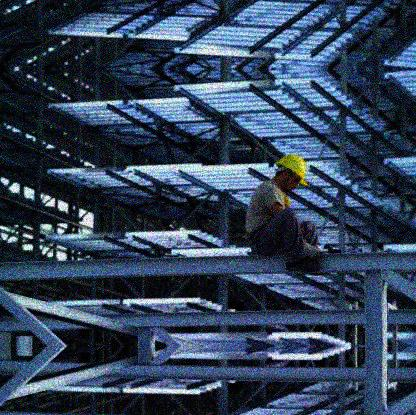helmet: (275, 154, 308, 195)
